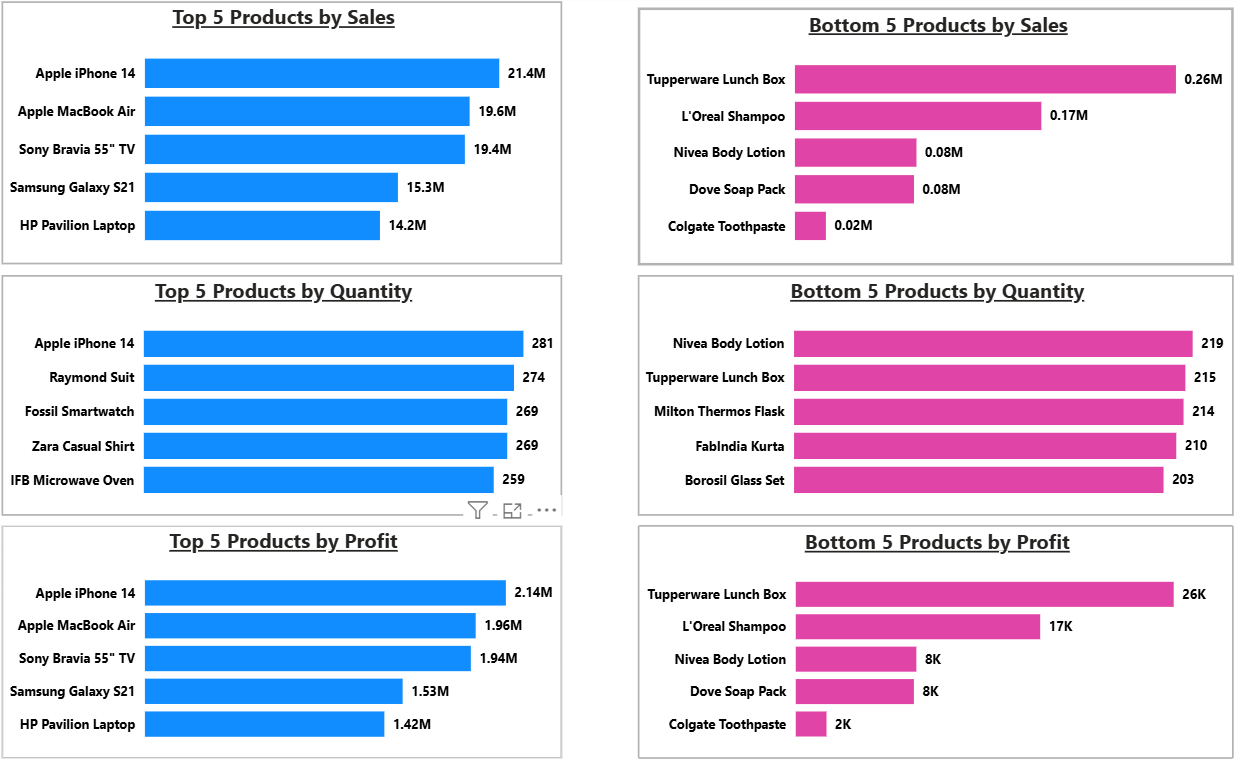

The page's visual inventory and layout, read from the dashboard file:
{"tool":"powerbi","page":{"name":"Top/Bottom 5 Analysis","canvas":[1280,720],"ordinal":0},"visuals":[{"type":"barChart","title":"Top 5 Products by Sales","fields":{"Category":["Dim Product.Product Name"],"Y":["Sum(Fact Table.Net Sales    )"]},"box":[40,6.3,521.5,245],"z":0},{"type":"barChart","title":"Bottom 5 Products by Sales","fields":{"Category":["Dim Product.Product Name"],"Y":["Sum(Fact Table.Net Sales    )"]},"box":[631.9,11.6,554.1,239.7],"z":1000},{"type":"barChart","title":"Top 5 Products by Quantity","fields":{"Category":["Dim Product.Product Name"],"Y":["Sum(Fact Table.Units Sold)"]},"box":[40,260.7,521.5,223.9],"z":2000},{"type":"barChart","title":"Bottom 5 Products by Quantity","fields":{"Category":["Dim Product.Product Name"],"Y":["Sum(Fact Table.Units Sold)"]},"box":[631.9,260.7,554.1,223.9],"z":3000},{"type":"barChart","title":"Top 5 Products by Profit","fields":{"Category":["Dim Product.Product Name"],"Y":["Sum(Fact Table.Profit)"]},"box":[40,493.1,521.5,217.6],"z":4000},{"type":"barChart","title":"Bottom 5 Products by Profit","fields":{"Category":["Dim Product.Product Name"],"Y":["Sum(Fact Table.Profit)"]},"box":[631.9,493.1,554.1,217.6],"z":5000}]}

Visuals, with their boxes on the page's 1280x720 design canvas (x1, y1, x2, y2). These are canvas units, not pixel positions in the 1236x762 screenshot, which may show the page scaled, cropped or inside an application window:
"Top 5 Products by Sales" barChart: 40/6/562/251
"Bottom 5 Products by Sales" barChart: 632/12/1186/251
"Top 5 Products by Quantity" barChart: 40/261/562/485
"Bottom 5 Products by Quantity" barChart: 632/261/1186/485
"Top 5 Products by Profit" barChart: 40/493/562/711
"Bottom 5 Products by Profit" barChart: 632/493/1186/711
